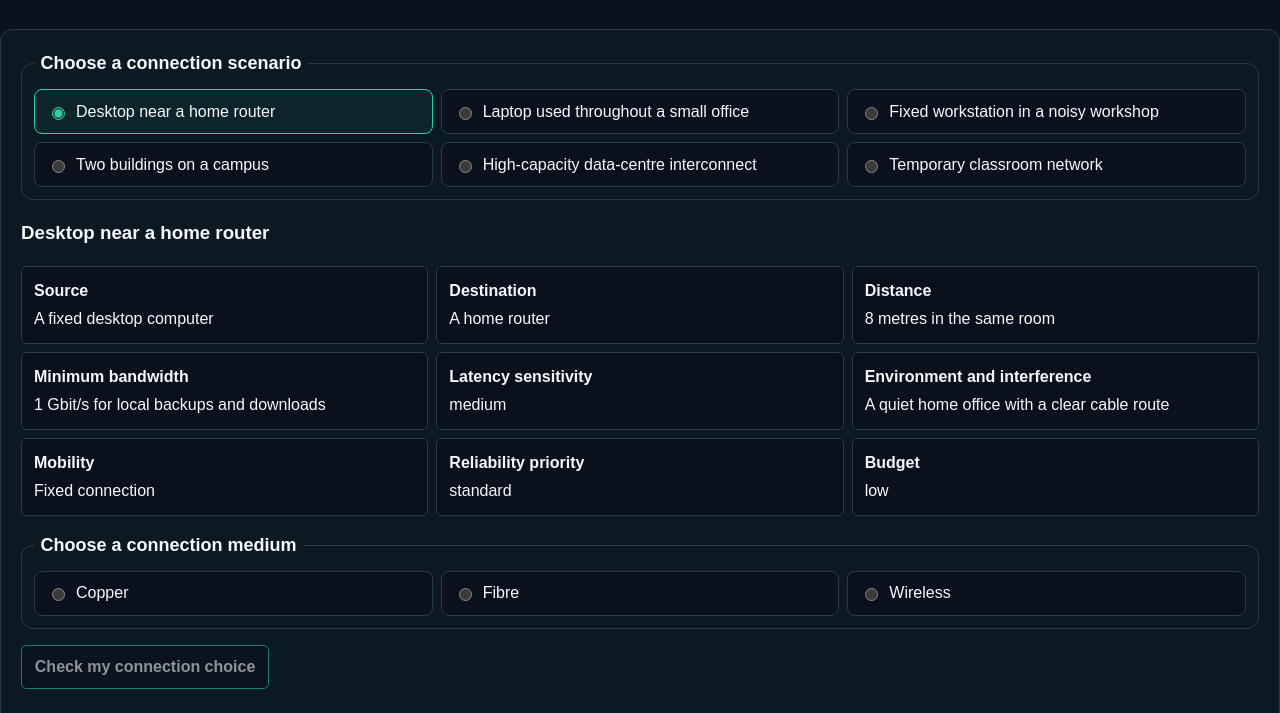
ConnectionMediaLab › explains Unsuitable and compares with the recommended option
The width and height of the screenshot is (1280, 713).
Click the radio button labelled "Laptop used throughout a small office". click: click(465, 113)
box: 459,107 -> 472,120
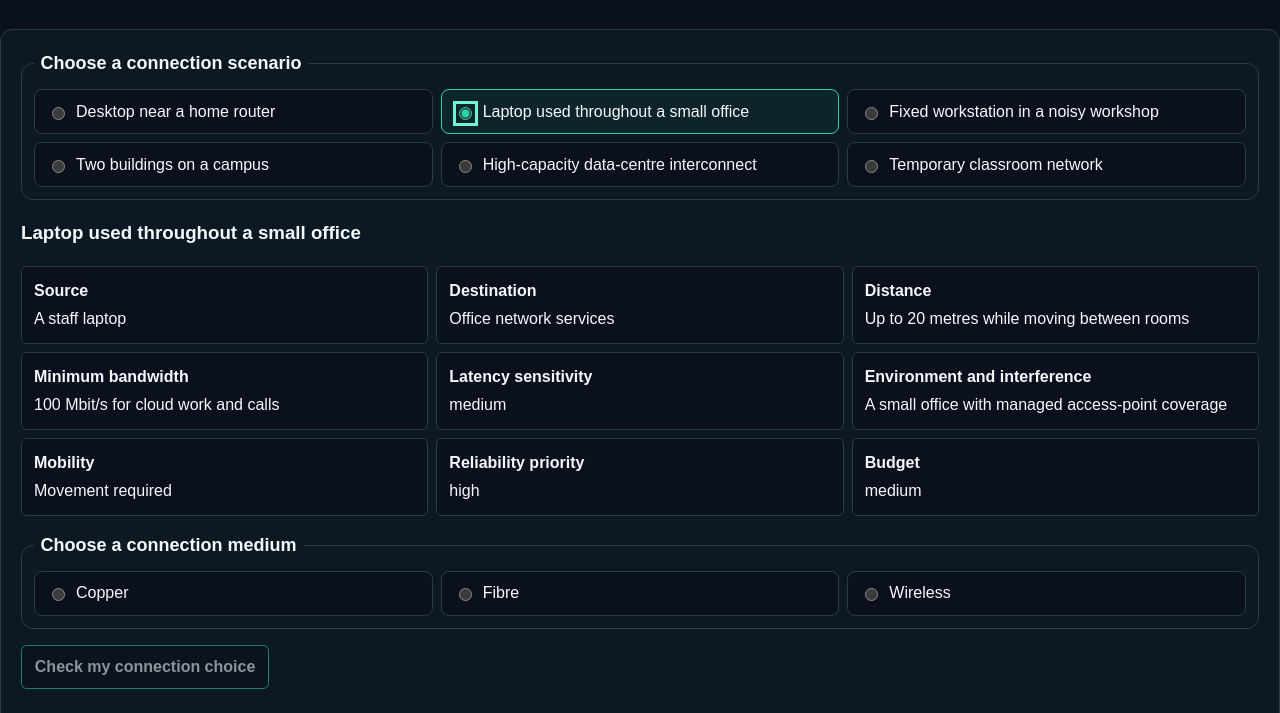
Click the radio button labelled "Copper". click: click(58, 595)
box: 52,588 -> 65,602
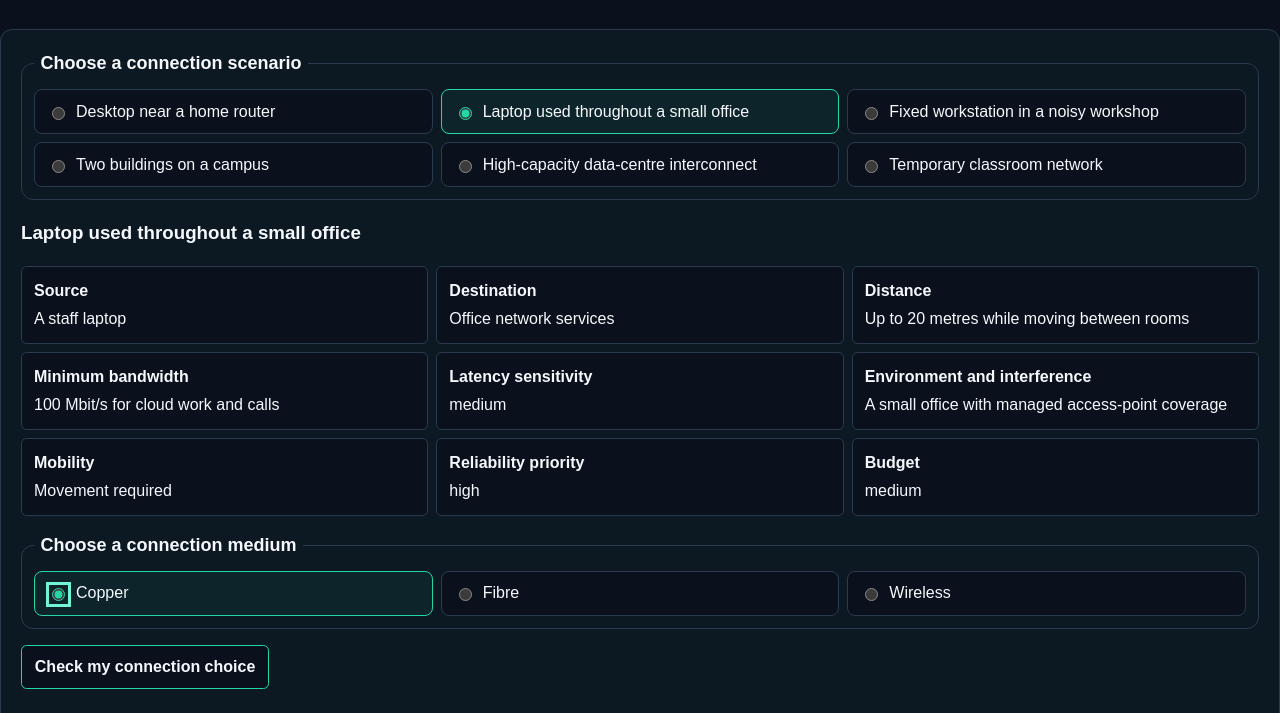
Click the button "Check my connection choice". click: click(145, 667)
box: 21,645 -> 269,689
(page scrolled)
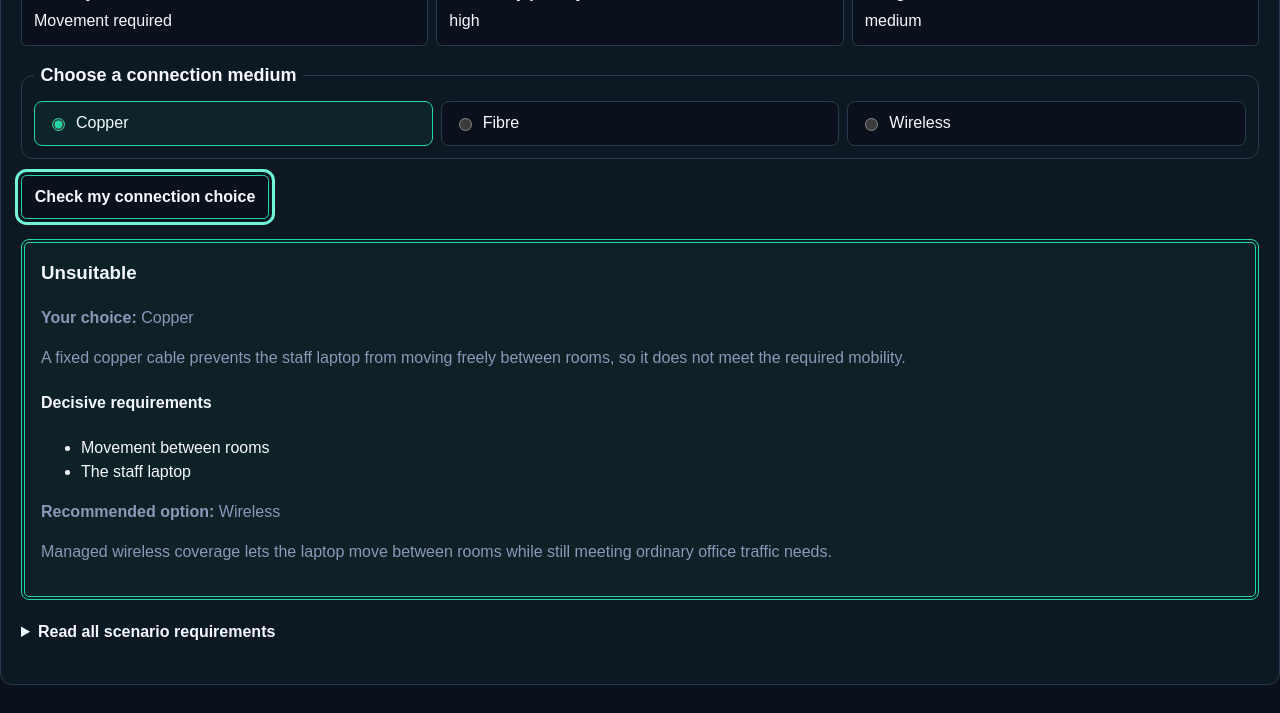
Result: the heading "Unsuitable" is shown at 41,262 -> 137,283
Result: the element named "Connection choice result" shows "Movement between rooms" at 81,439 -> 270,456
Result: the element named "Connection choice result" shows "does not meet the required mobility" at 41,349 -> 906,366
